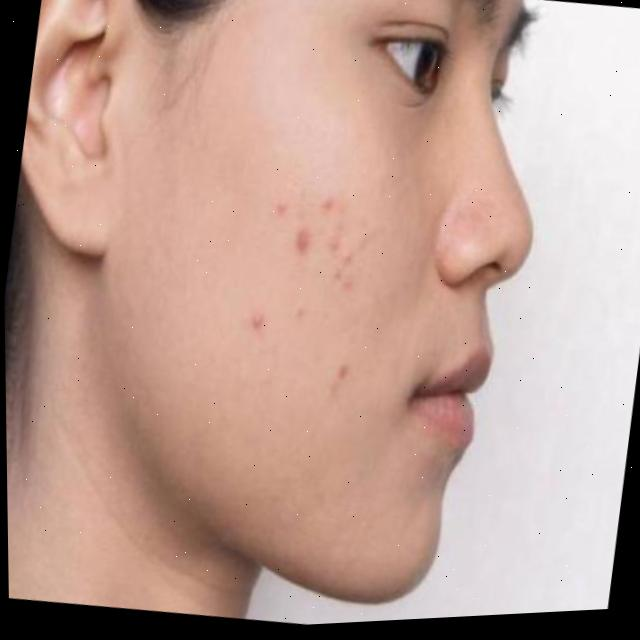Acne: (234, 175, 390, 403)
